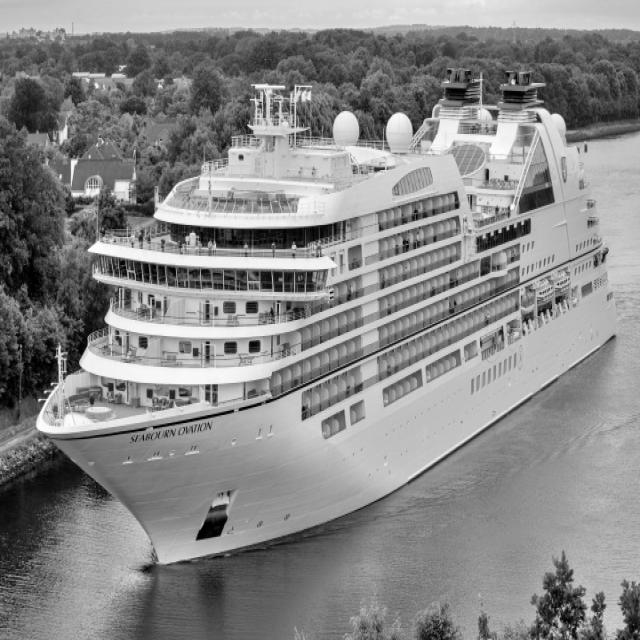cruises: (34, 63, 624, 577)
